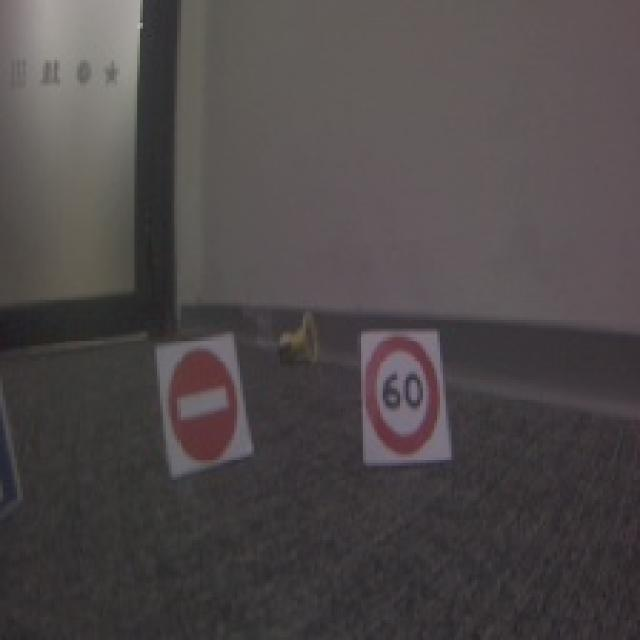DoNotEnterSign: (165, 346, 239, 463)
